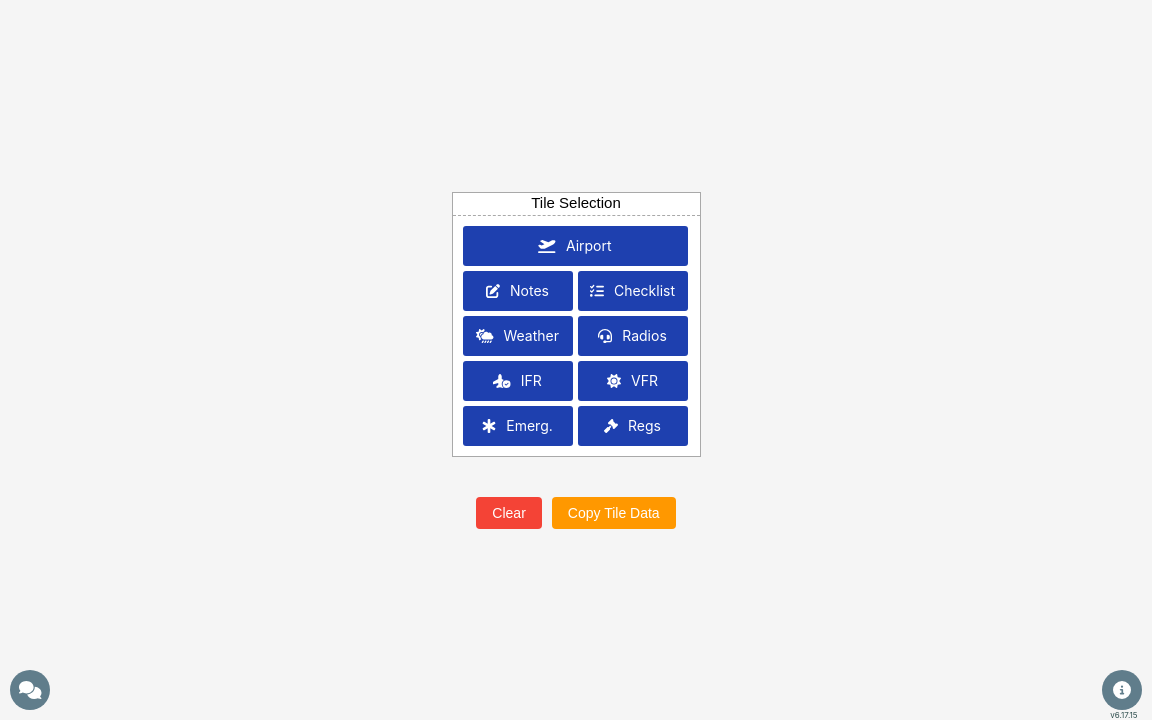
Test: Tile IFR › Should Start with CRAFT Mode
Click the element showing "IFR" at (518, 381), box [463,361,573,401]
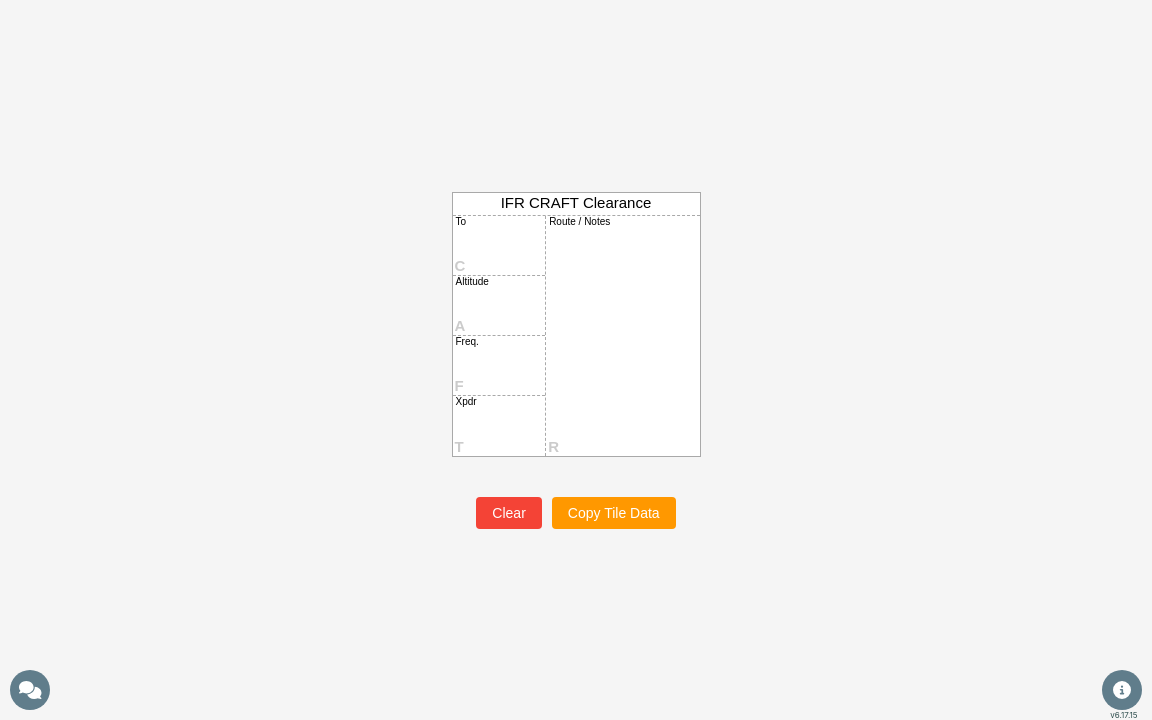
Expected: the text "IFR CRAFT Clearance" is shown, [501,192,651,216]
